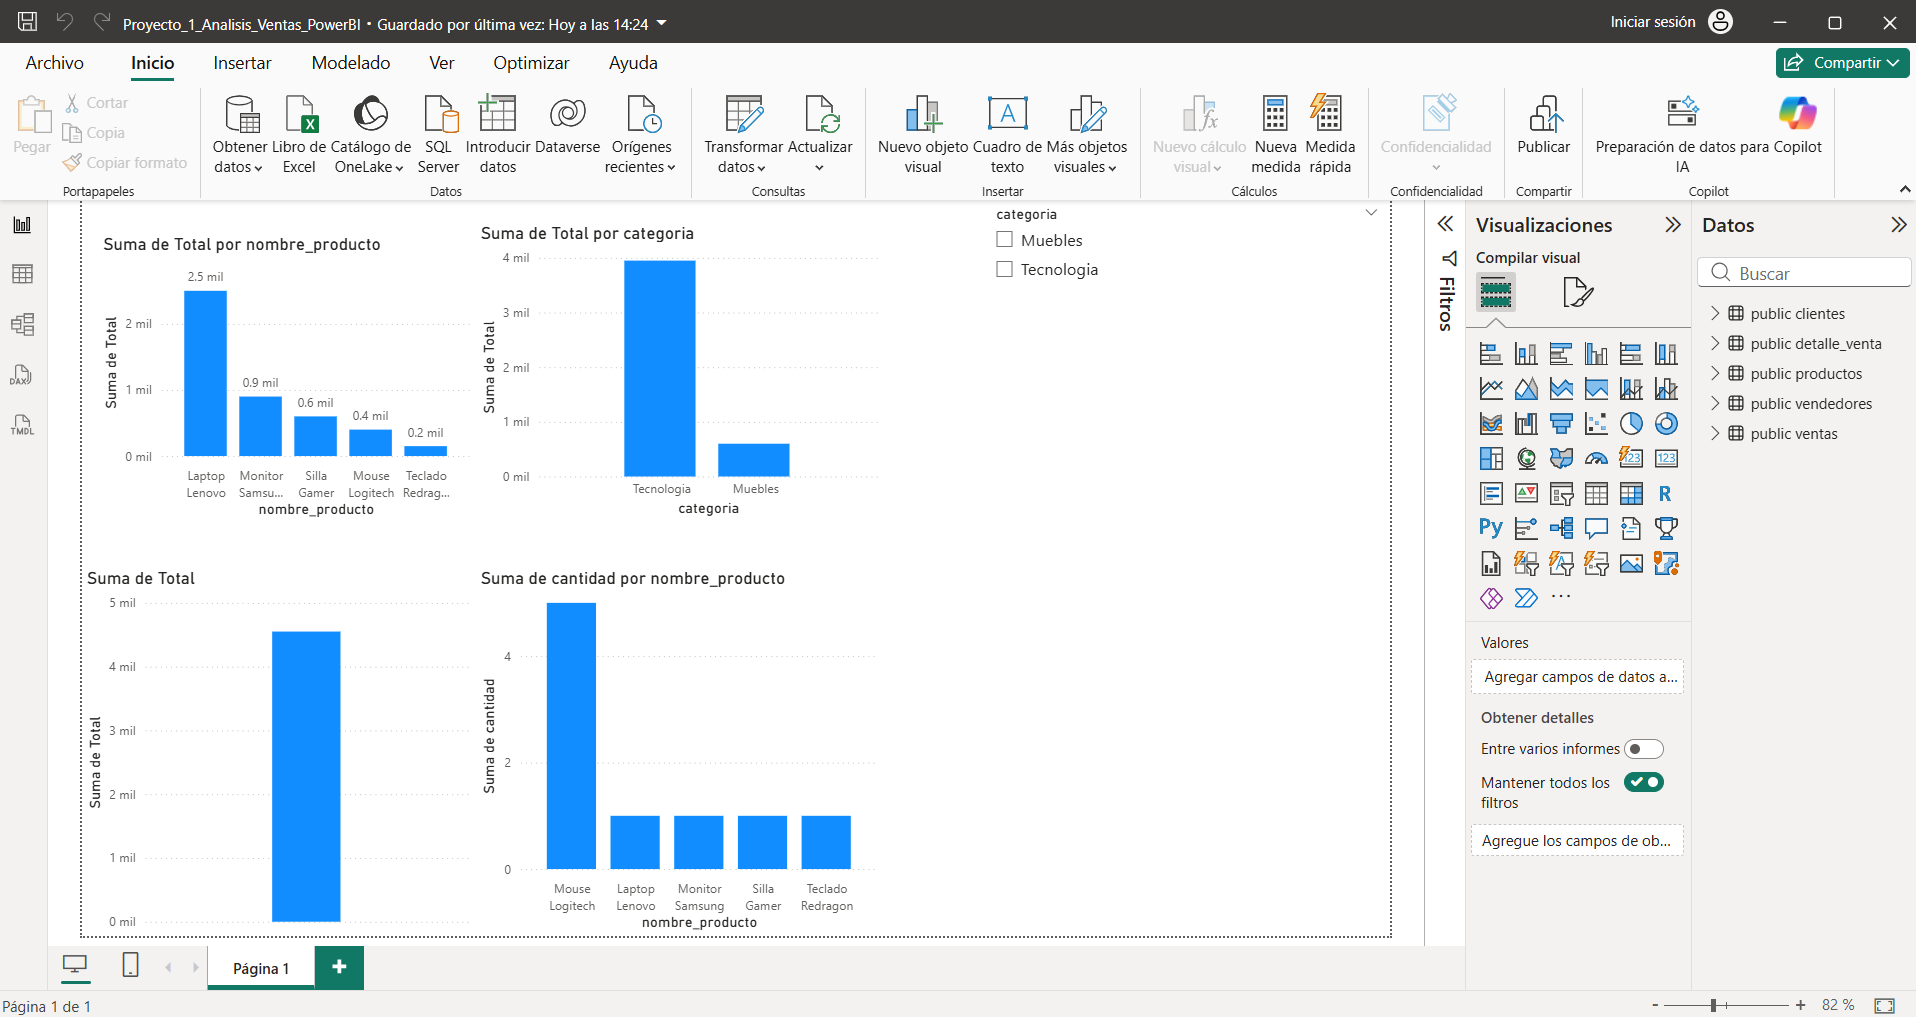

This screenshot's page, from the dashboard's own definition file:
{"tool":"powerbi","page":{"name":"Página 1","canvas":[1280,720],"ordinal":0},"visuals":[{"type":"clusteredColumnChart","fields":{"Category":["public productos.nombre_producto"],"Y":["Sum(public detalle_venta.Total)"]},"box":[15.9,33,369.3,282.5],"z":0},{"type":"clusteredColumnChart","fields":{"Category":["public productos.categoria"],"Y":["Sum(public detalle_venta.Total)"]},"box":[385,22.5,398.8,292.5],"z":1000},{"type":"clusteredColumnChart","fields":{"Y":["Sum(public detalle_venta.Total)"]},"box":[0,359.5,385.2,360.7],"z":2000},{"type":"clusteredColumnChart","fields":{"Category":["public productos.nombre_producto"],"Y":["Sum(public detalle_venta.cantidad)"]},"box":[385,360,398.8,360],"z":3000},{"type":"slicer","fields":{"Values":["public productos.categoria"]},"box":[881.2,0,398.8,293.8],"z":4000}]}

Visuals, with their boxes on the page's 1280x720 design canvas (x1, y1, x2, y2). These are canvas units, not pixel positions in the 1916x1017 screenshot, which may show the page scaled, cropped or inside an application window:
clusteredColumnChart - public productos.nombre_producto x Sum(public detalle_venta.Total): region(16, 33, 385, 316)
clusteredColumnChart - public productos.categoria x Sum(public detalle_venta.Total): region(385, 22, 784, 315)
clusteredColumnChart - Sum(public detalle_venta.Total): region(0, 360, 385, 720)
clusteredColumnChart - public productos.nombre_producto x Sum(public detalle_venta.cantidad): region(385, 360, 784, 720)
slicer - public productos.categoria: region(881, 0, 1280, 294)
